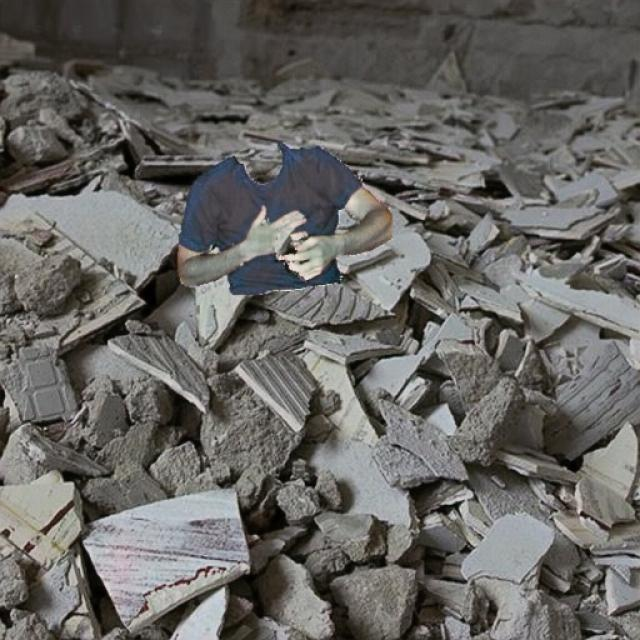Person in Rubble: (178, 142, 392, 294)
